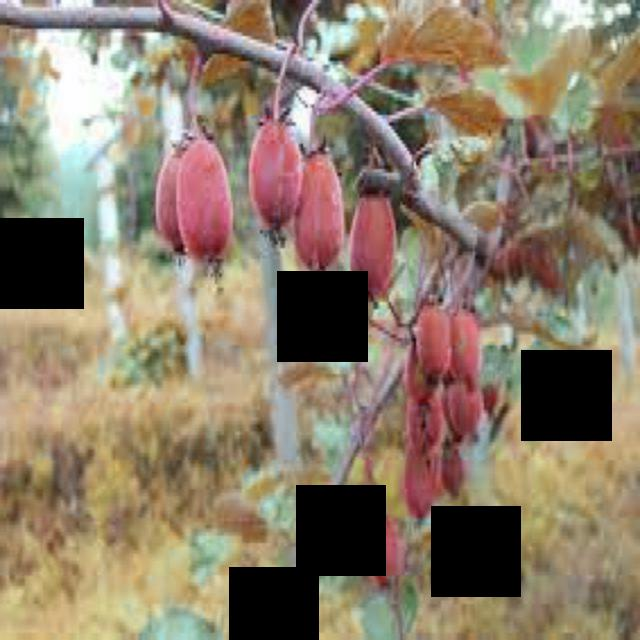kiwi: (293, 152, 348, 285), (177, 138, 232, 260), (250, 120, 305, 235), (349, 181, 399, 293), (158, 149, 196, 257), (404, 440, 444, 527), (415, 303, 455, 382), (367, 512, 406, 591), (408, 382, 447, 461), (451, 372, 490, 447), (453, 307, 485, 390)
